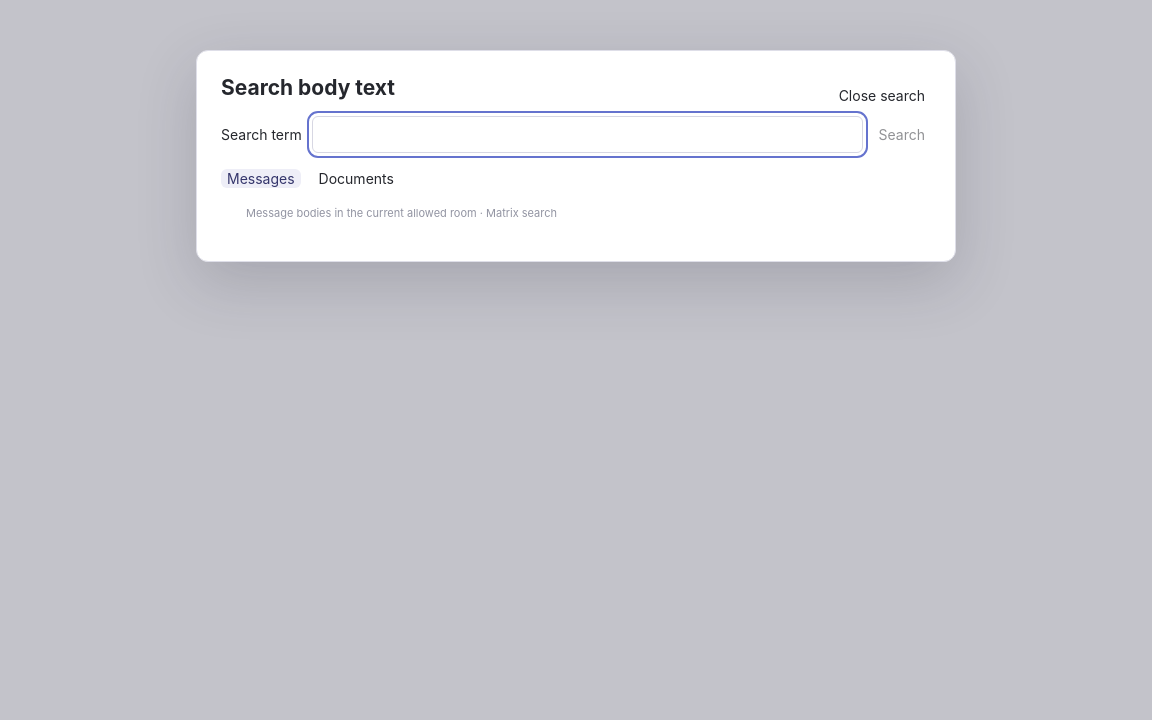
it: keeps the dialog and query when a document cannot safely be opened
In the field named "Search body text": (587, 135) x1=312 y1=116 x2=863 y2=153, type "needle"
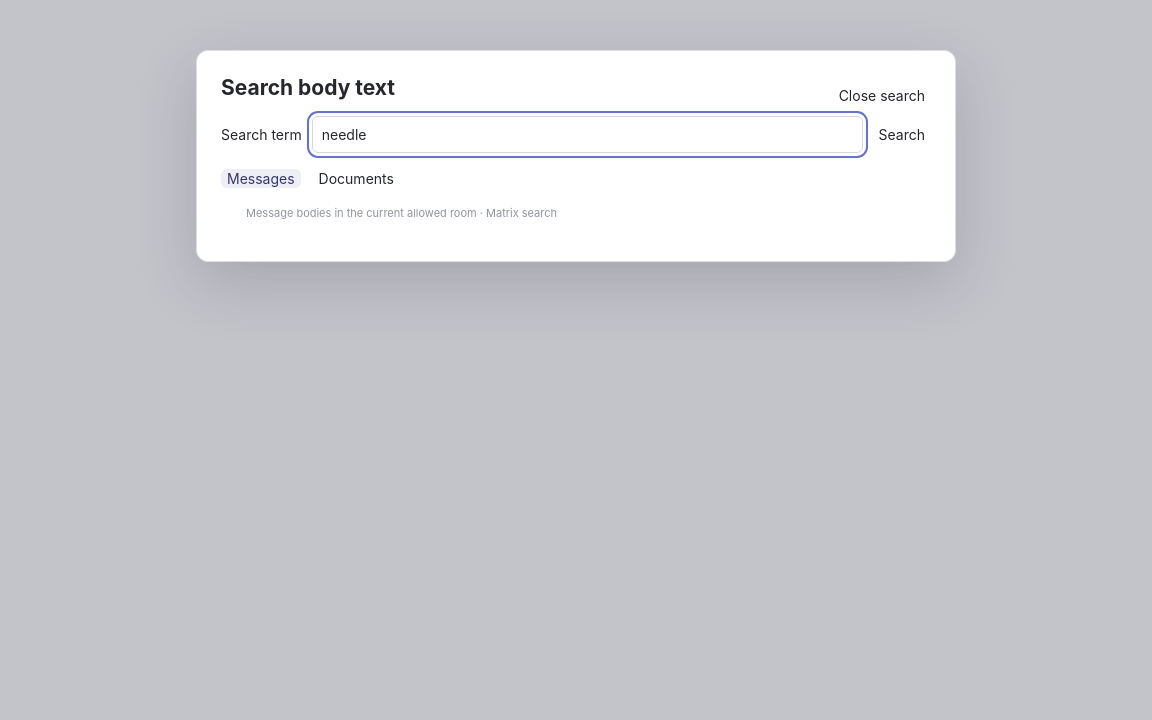
Click the button "Documents": (356, 179) x1=313 y1=169 x2=400 y2=188
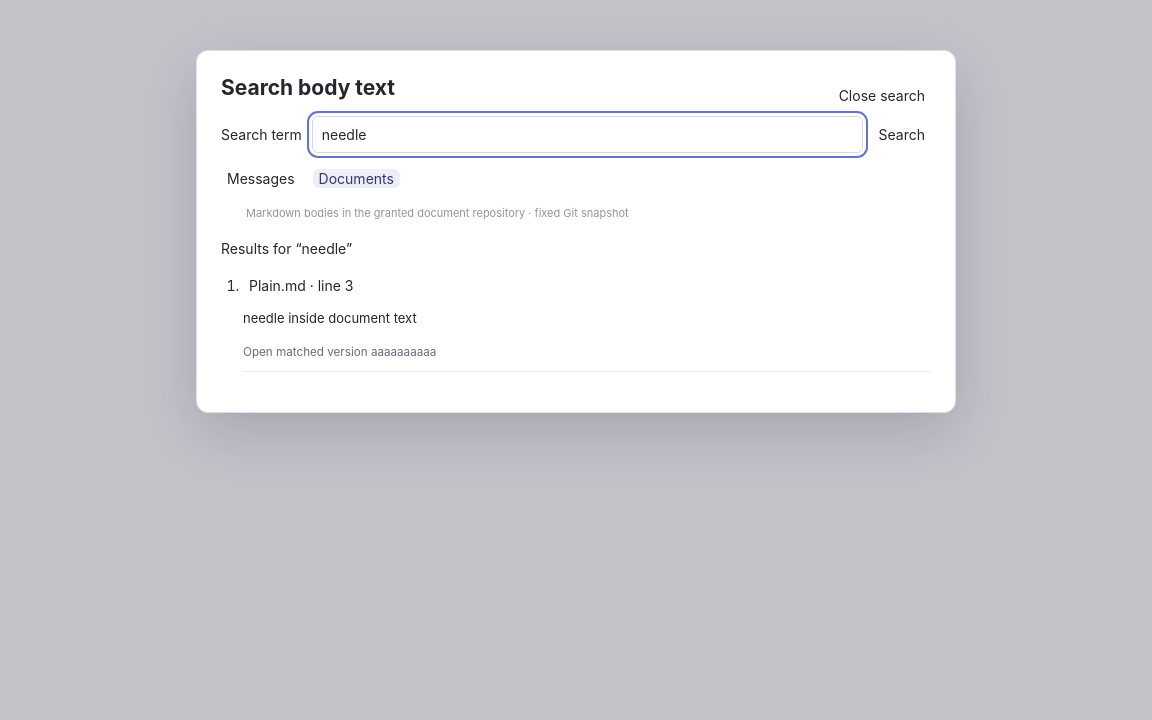
Result: the text "needle inside document text" is shown at x1=243 y1=310 x2=417 y2=326
Click the button "Plain.md · line 3": (301, 285) x1=243 y1=276 x2=359 y2=295
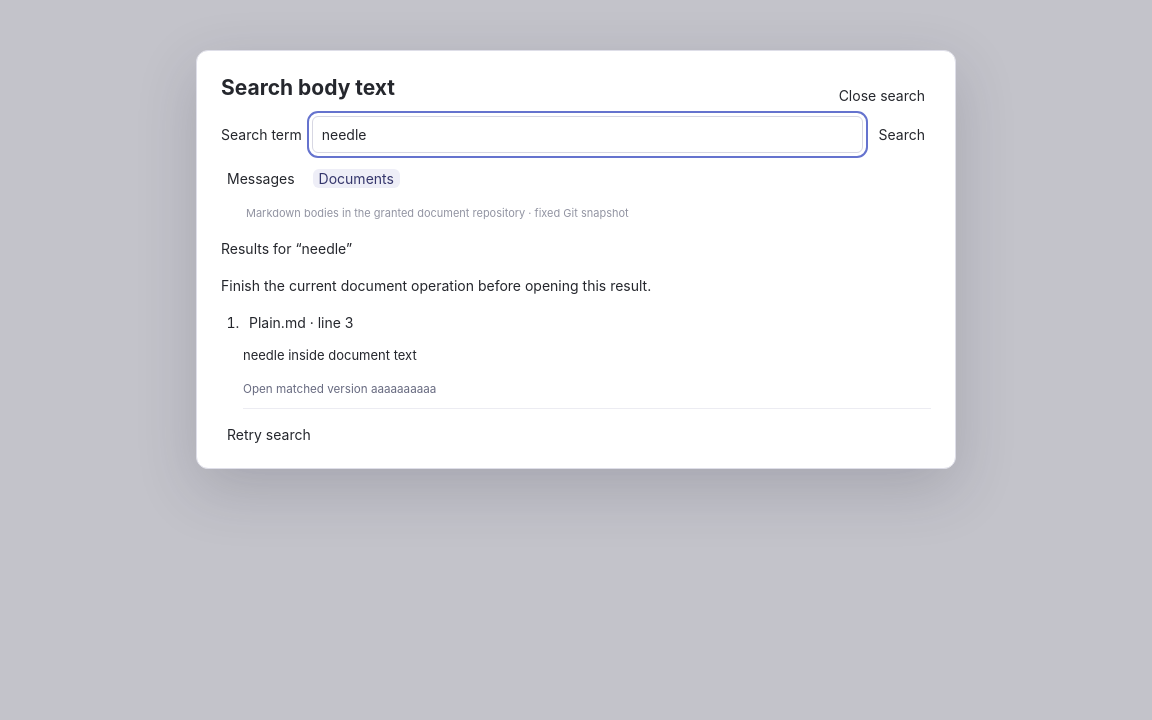
Result: the text "Finish the current document operation before opening this result." is shown at x1=221 y1=277 x2=651 y2=294
